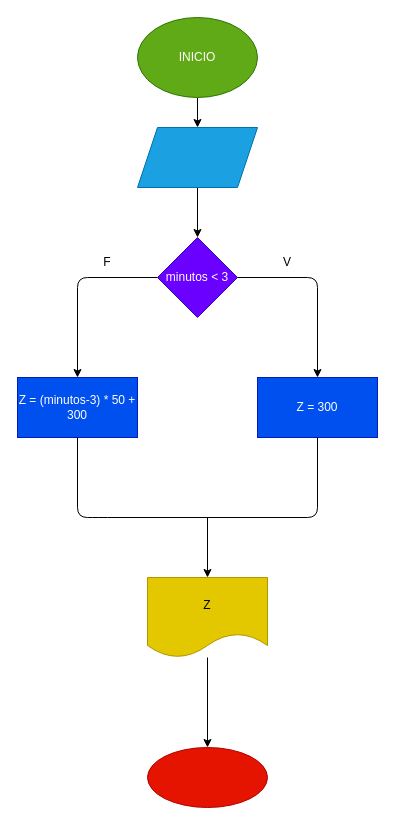
This 395x825 diagram has some shape labels left out. The centre of each missing label's shape, as x and y in pixels:
FIN: the point at 207,777
minutos: the point at 197,157
